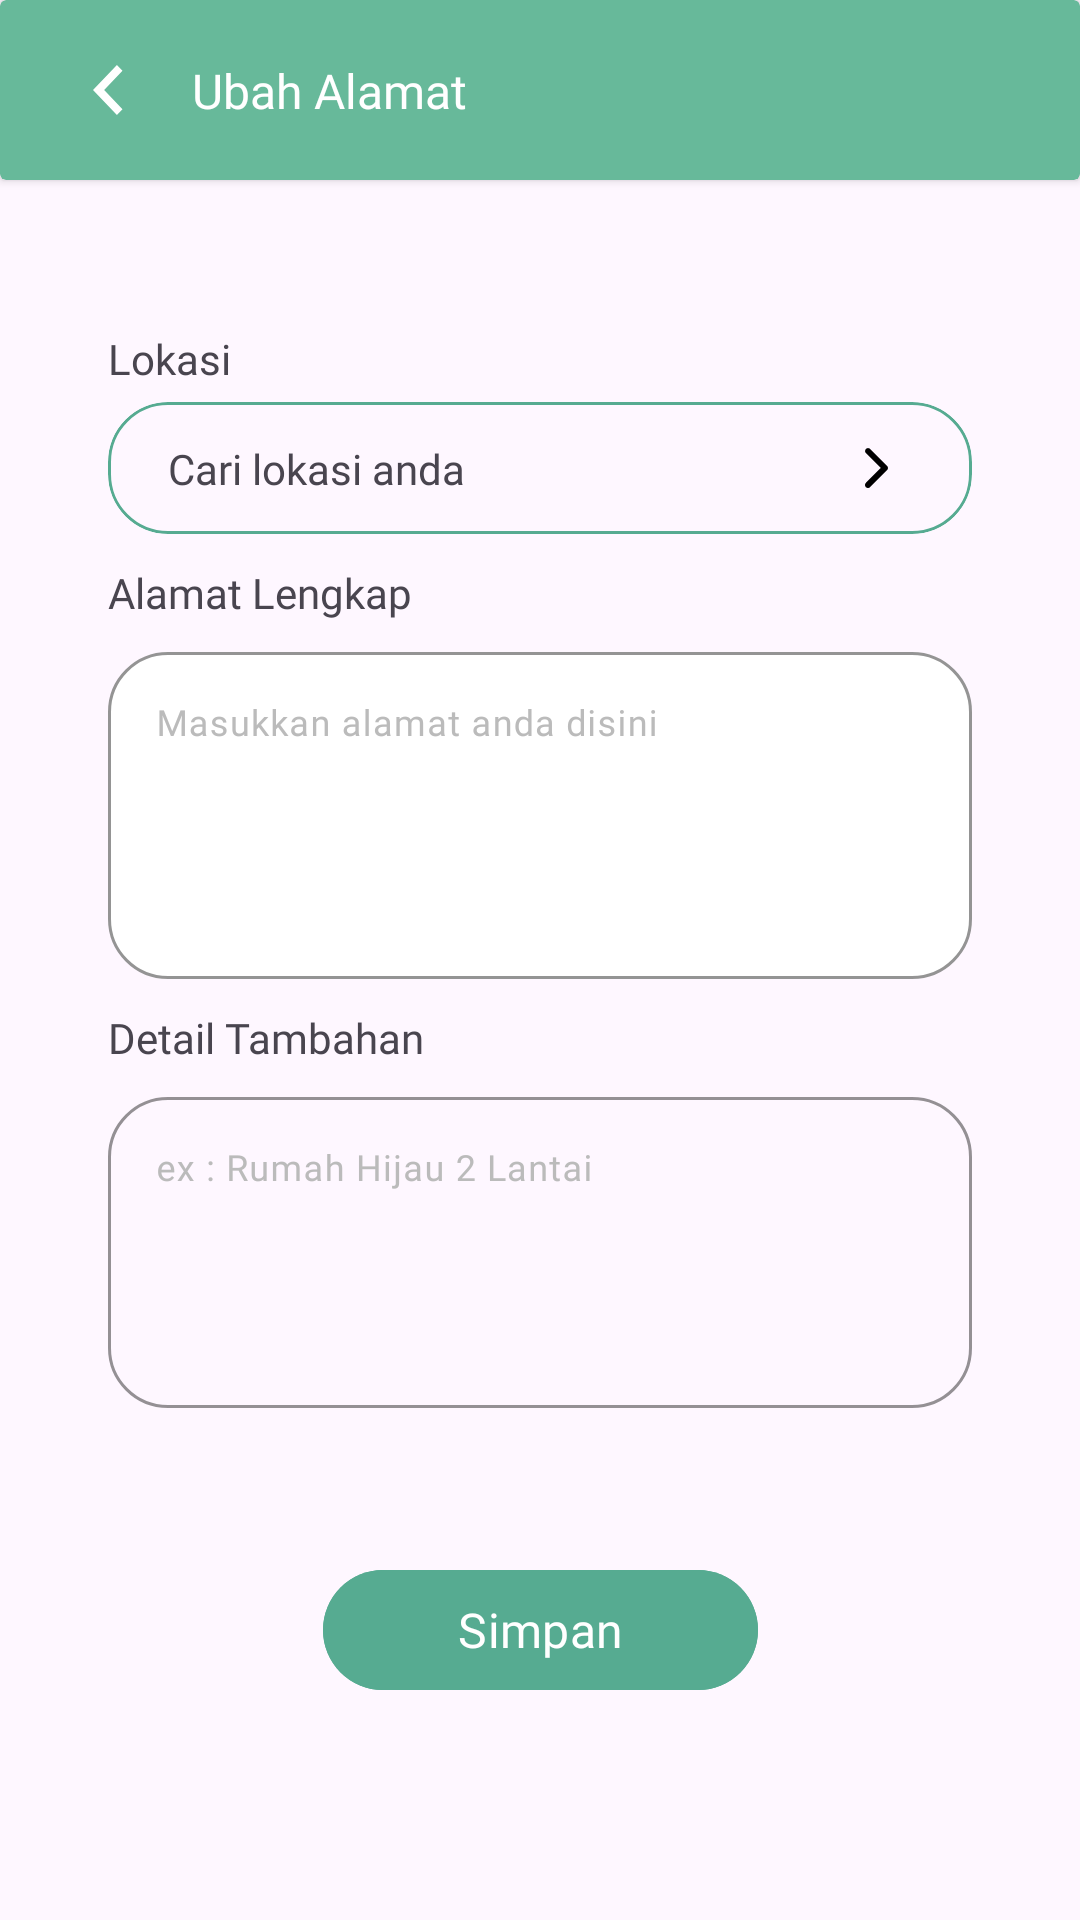

Named icons in this screenshot (1080x1920) and their bounding boxes, (x1, y1, x2, y2):
arrowk tebel: (865, 448, 888, 488)
back: (93, 65, 123, 115)
